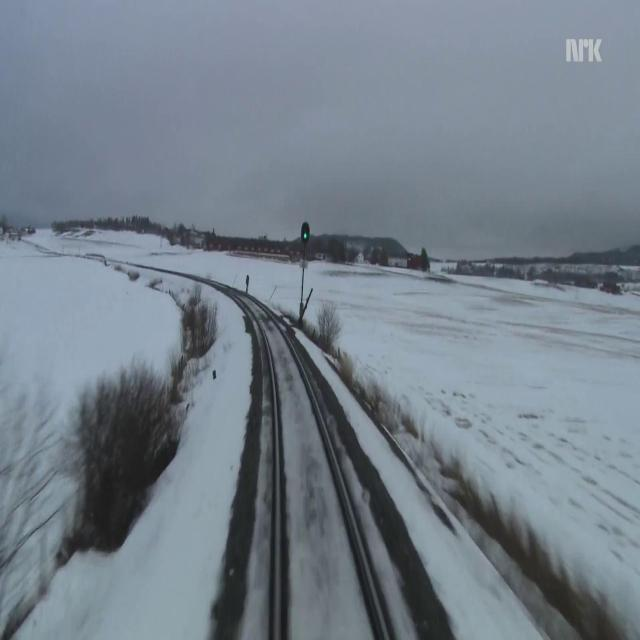rail-track: (233, 291, 386, 639)
